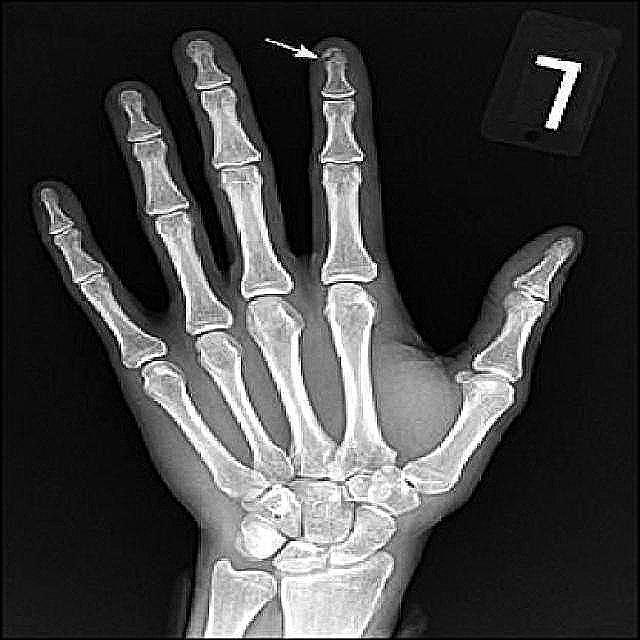bone: (321, 44, 357, 65)
